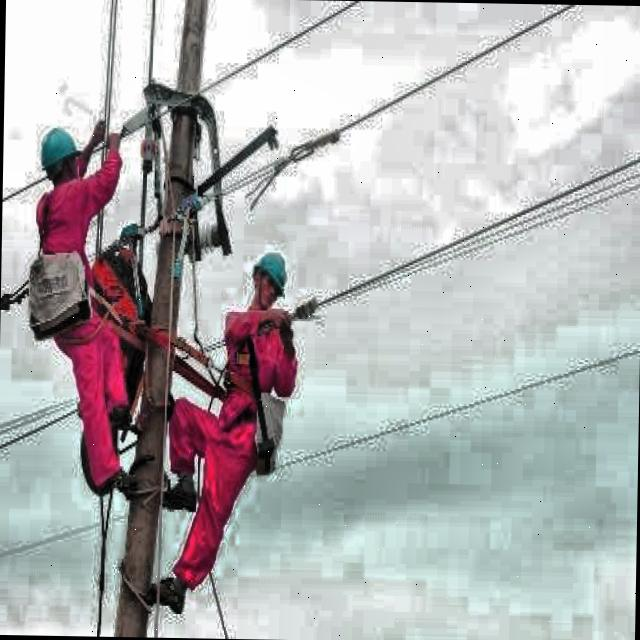helmet: (36, 121, 84, 192), (246, 244, 292, 312)
